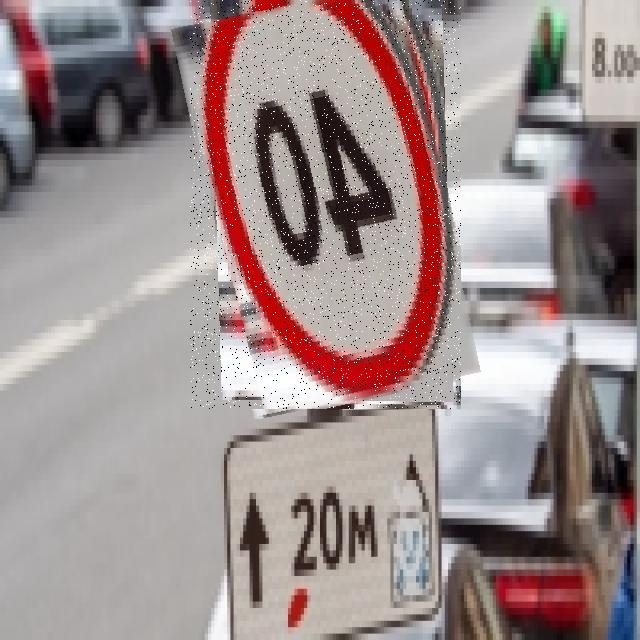speed limit 40: (190, 0, 461, 409)
